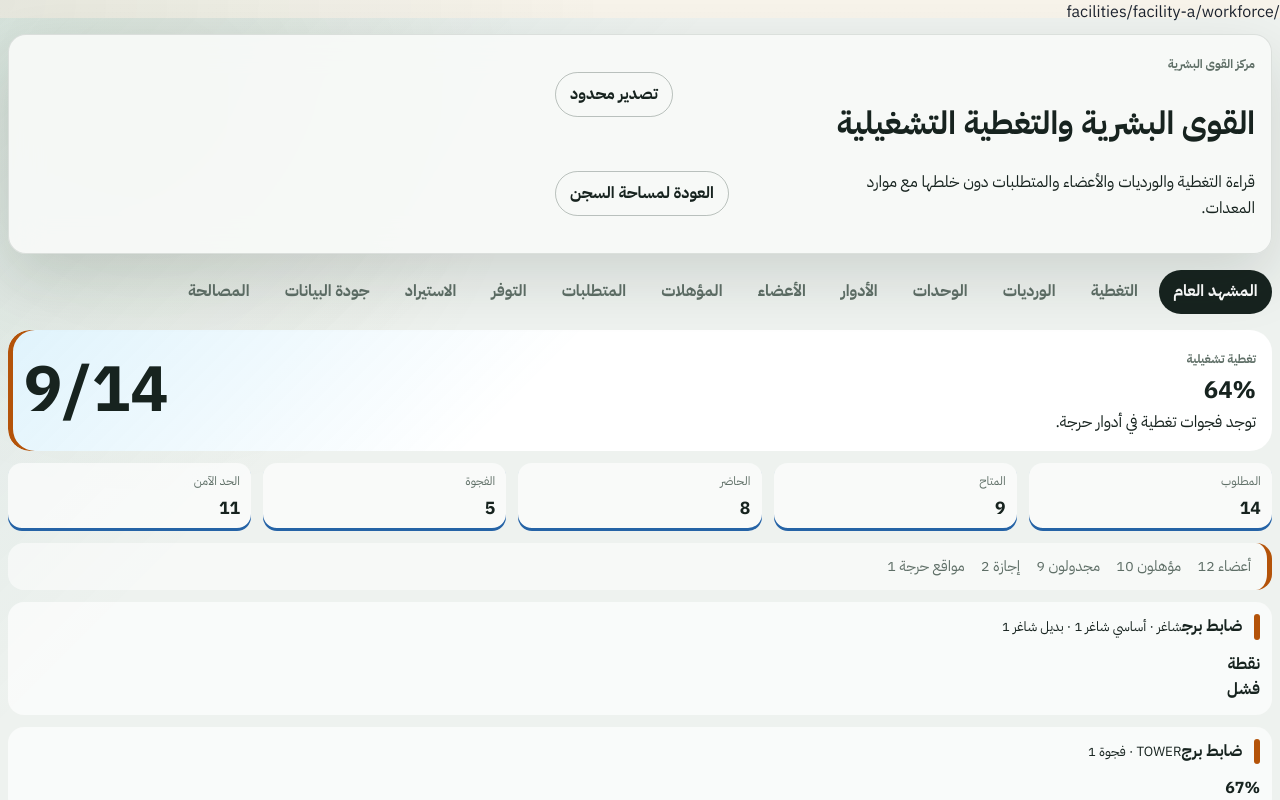
it: FacilityWorkforcePage › syncs section selection into the URL and supports back/forward searchParams
The image size is (1280, 800).
expect the heading "القوى البشرية والتغطية التشغيلية" is shown: met, box [820, 98, 1255, 149]
Click the button "الوحدات" at (940, 292), box [898, 270, 982, 314]
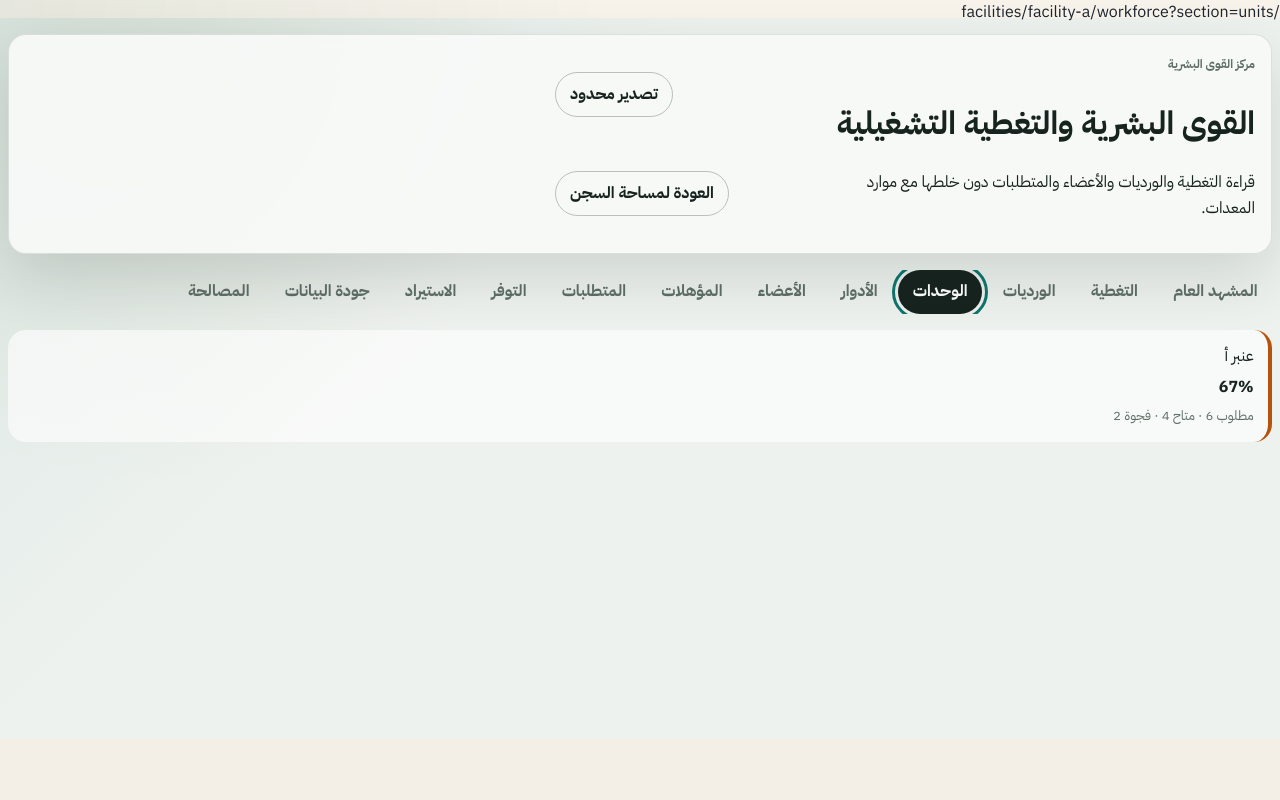
expect the text with test id "router-location" shows "section=units": met, box [1169, 0, 1274, 24]
expect the element named "تغطية الوحدات" is shown: met, box [8, 330, 1272, 442]
Click the button "المشهد العام" at (1215, 292), box [1159, 270, 1272, 314]
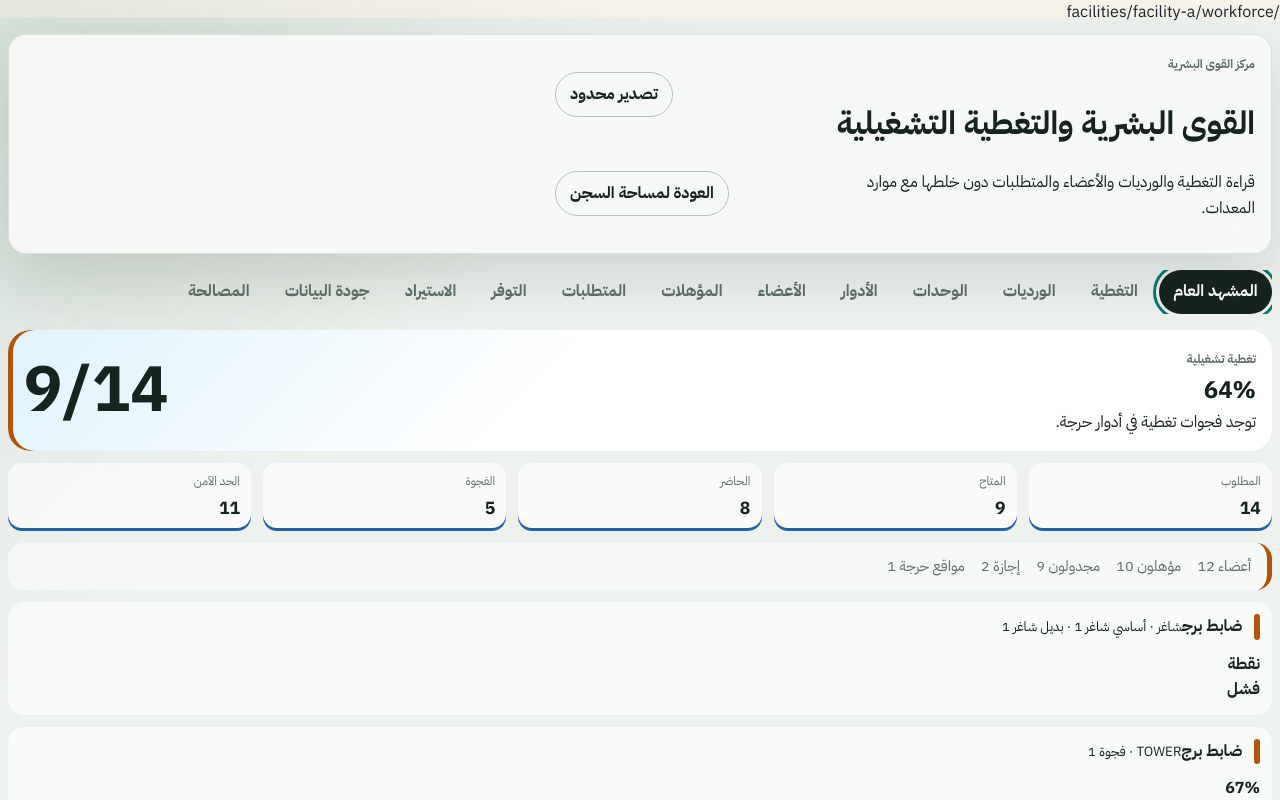
expect the text with test id "router-location" no longer shows "section=": met, box [1066, 0, 1279, 24]
